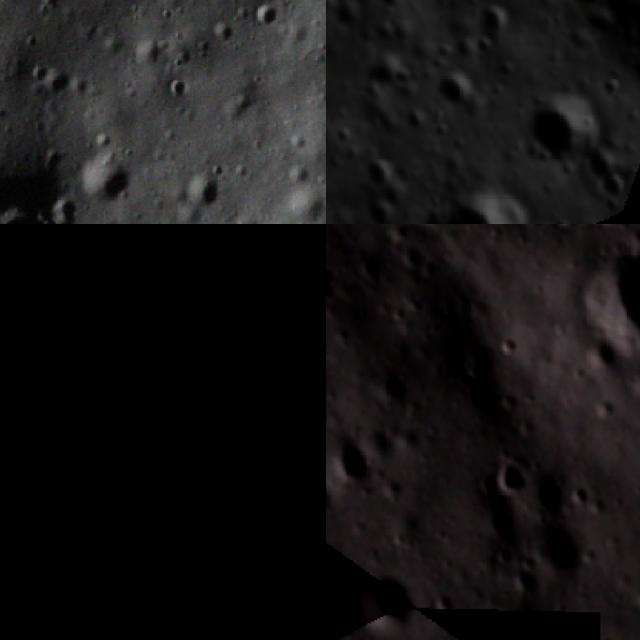crater: (0, 224, 258, 630), (210, 547, 321, 640), (573, 236, 640, 371), (516, 94, 606, 171), (347, 561, 424, 638), (419, 182, 539, 224), (524, 509, 590, 582), (78, 142, 138, 210), (326, 427, 381, 493), (0, 188, 98, 224), (214, 482, 265, 544), (573, 330, 626, 375), (487, 452, 532, 502), (474, 499, 520, 547), (470, 0, 519, 39), (437, 69, 477, 116), (350, 242, 389, 282), (240, 0, 280, 38), (391, 240, 431, 274), (598, 166, 636, 201), (44, 68, 80, 104), (359, 157, 394, 185), (164, 75, 192, 108), (498, 329, 526, 358), (600, 74, 625, 105), (326, 262, 346, 299), (326, 224, 345, 256), (335, 123, 356, 147), (544, 224, 586, 234)
